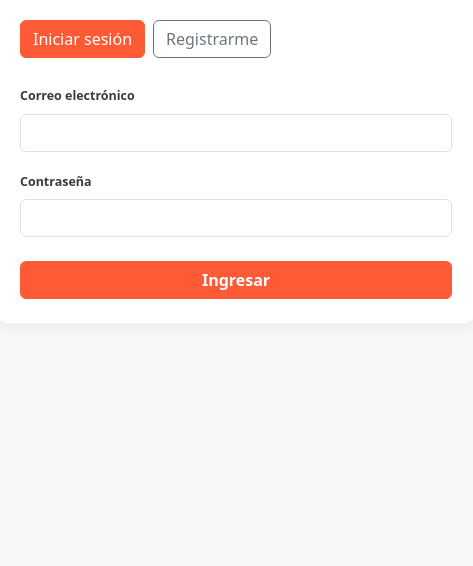
it: AccountPanel › permite cambiar a crear cuenta y valida el nombre
The width and height of the screenshot is (473, 566).
Click the button "Registrarme".
click(212, 39)  # box [153,20,271,58]
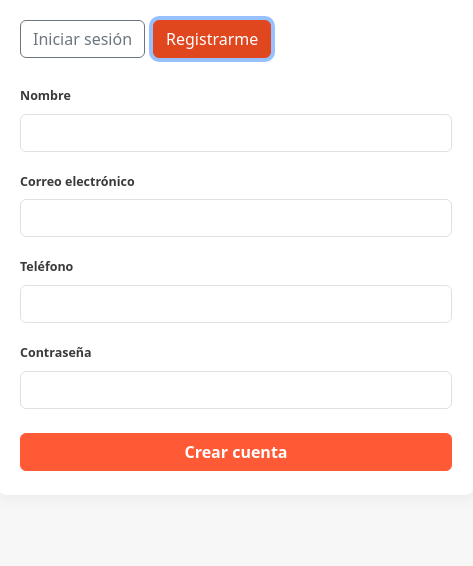
Click the button "Crear cuenta".
click(236, 452)  # box [20,433,452,471]
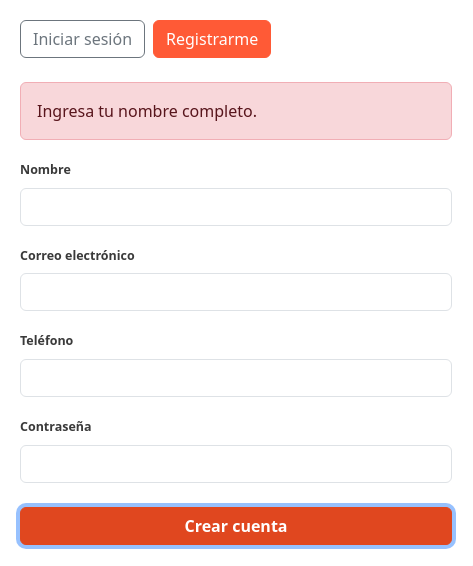
Check: the text "Ingresa tu nombre completo." is shown, box [20,82,452,140]
